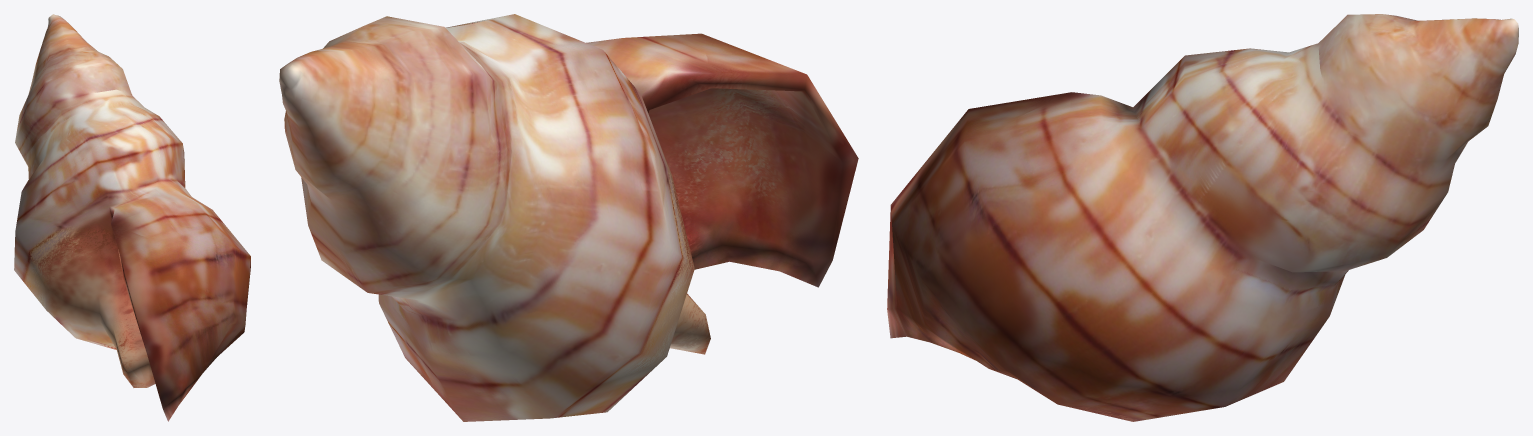
The model's file is SeaShell.obj.
3 views of the same model, side by side, from view 1: azimuth 30°, elevation 25°; view 2: azimuth 150°, elevation 25°; view 3: azimuth 270°, elevation 25° (orthographic). The views are drawn at different scales.
Parts seen in each view (by area): view 1: Cylinder009; view 2: Cylinder009; view 3: Cylinder009.
Part boxes in pixels (x1,y1,x2,y2): Cylinder009: (14,14,250,421); Cylinder009: (279,14,858,421); Cylinder009: (887,14,1518,421).
Bounding box in the file's own units: 4.26 × 5.74 × 8.15.
1 material, 1 textured.
